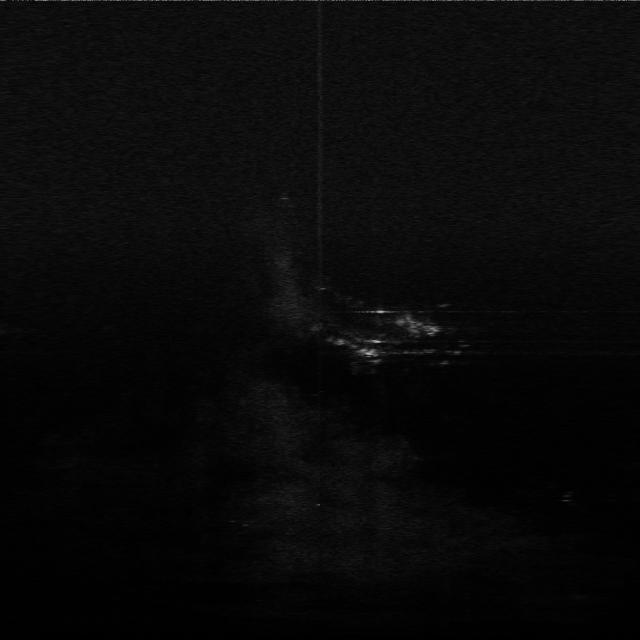rov: (412, 322, 446, 340)
